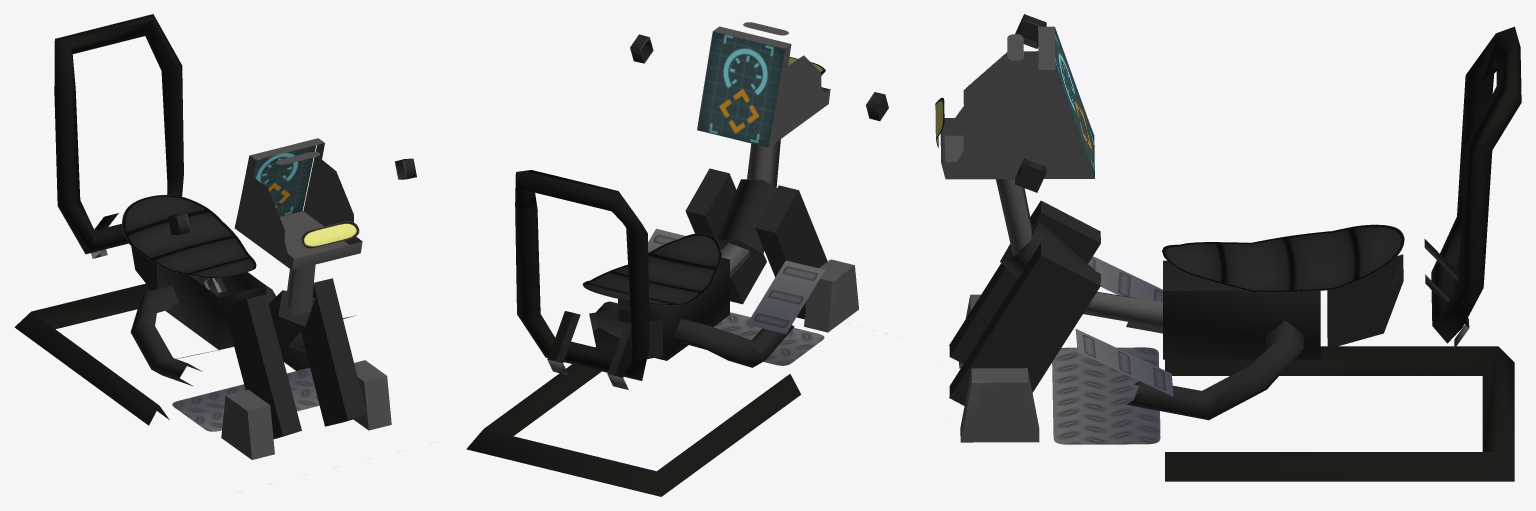
File: obj_interactive_driversaddle_01_lod1.fbx
3 views of the same model, side by side, from view 1: azimuth 30°, elevation 25°; view 2: azimuth 150°, elevation 25°; view 3: azimuth 270°, elevation 25° (orthographic). The views are drawn at different scales.
Visible parts, largest first — view 1: obj_interactive_driversaddle_02_lod1; view 2: obj_interactive_driversaddle_02_lod1; view 3: obj_interactive_driversaddle_02_lod1.
Part boxes in pixels (x1,y1,x2,y2): obj_interactive_driversaddle_02_lod1: (14, 14, 416, 459); obj_interactive_driversaddle_02_lod1: (466, 22, 888, 496); obj_interactive_driversaddle_02_lod1: (935, 14, 1521, 481).
Bounding box in the file's own units: 2.99 × 3.52 × 4.92.
Materials: 1 (1 with a texture image).
